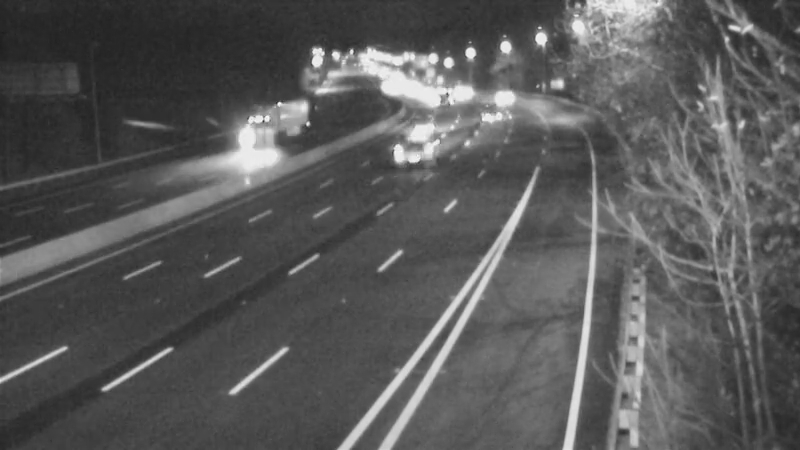vehicle: (373, 111, 453, 191), (438, 66, 488, 116), (476, 72, 526, 122), (419, 76, 469, 126), (466, 92, 516, 142), (403, 100, 453, 150), (276, 97, 326, 147)
